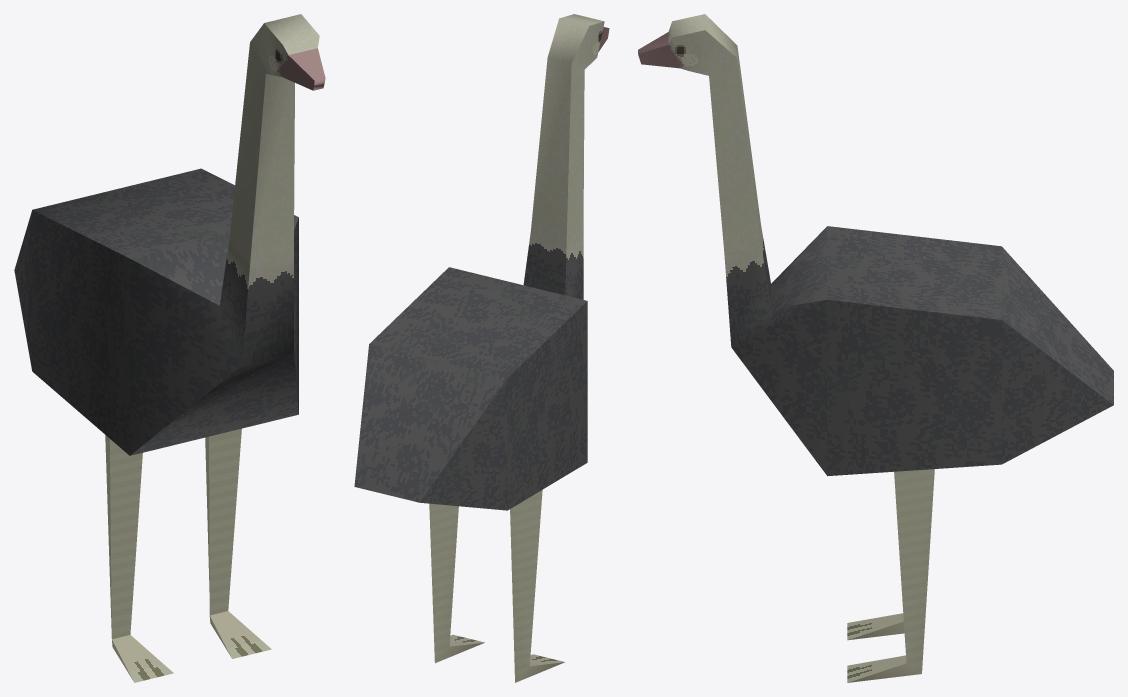
Rendered from 0a2b_Ostrich.glb.
3 views of the same model, side by side, from view 1: azimuth 30°, elevation 25°; view 2: azimuth 150°, elevation 25°; view 3: azimuth 270°, elevation 25° (orthographic). The views are drawn at different scales.
Visible parts, largest first — view 1: part_0; view 2: part_0; view 3: part_0.
Part boxes in pixels (x1,y1,x2,y2): part_0: (14, 14, 325, 682); part_0: (354, 14, 609, 682); part_0: (638, 14, 1113, 682).
Size of the model in its own units: 0.3762 by 1.5 by 1.03.
1 material, 1 textured.
